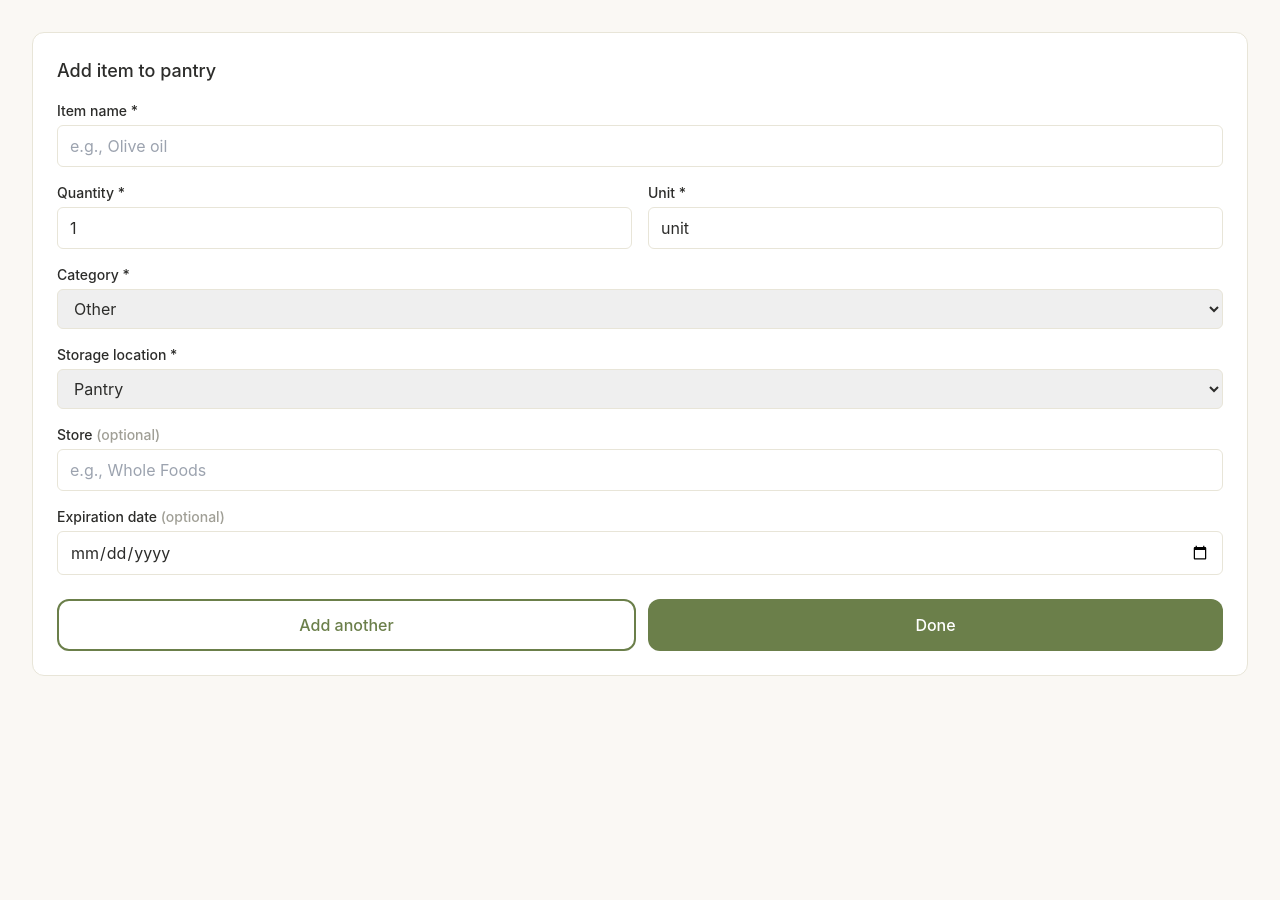
Test: ManualAddTab › Form Validation › shows validation error when quantity is 0
In the field labelled "Item name *": (640, 146) [57,125,1223,167], type "Olive oil"
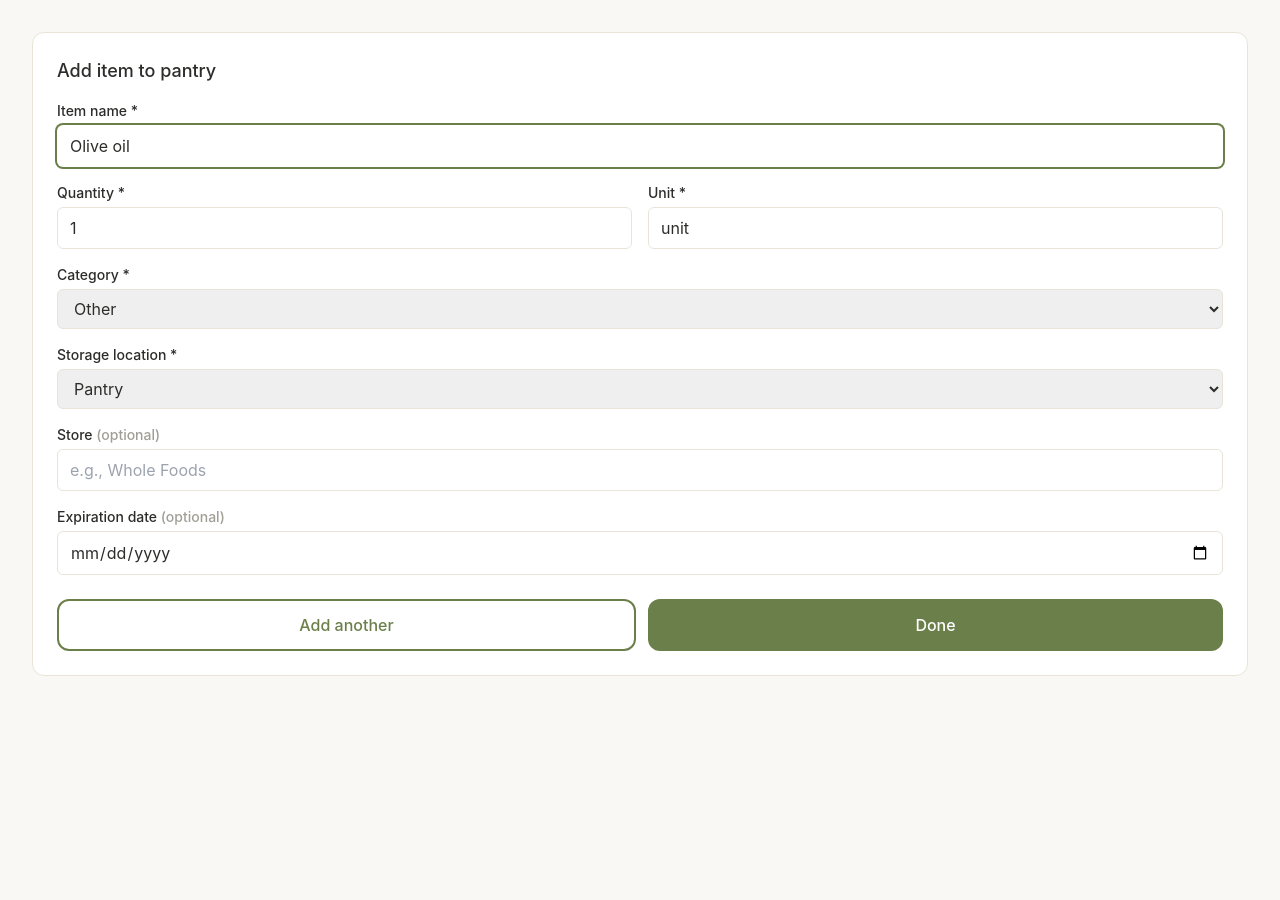
Replace the text in the number field labelled "Quantity *" with "0": (344, 228) [57,207,632,249]
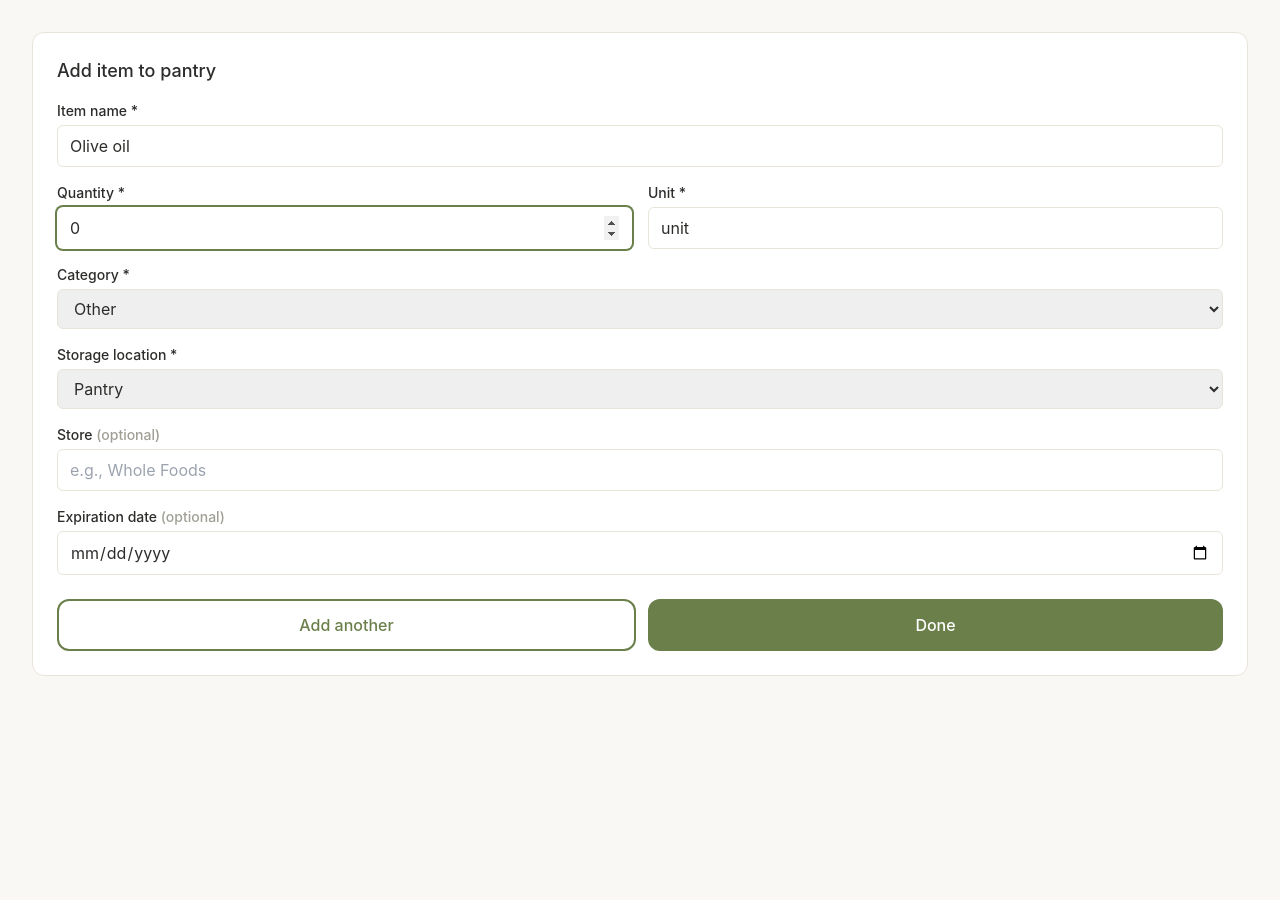
Click the button "Add another": (346, 625) [57,599,636,651]
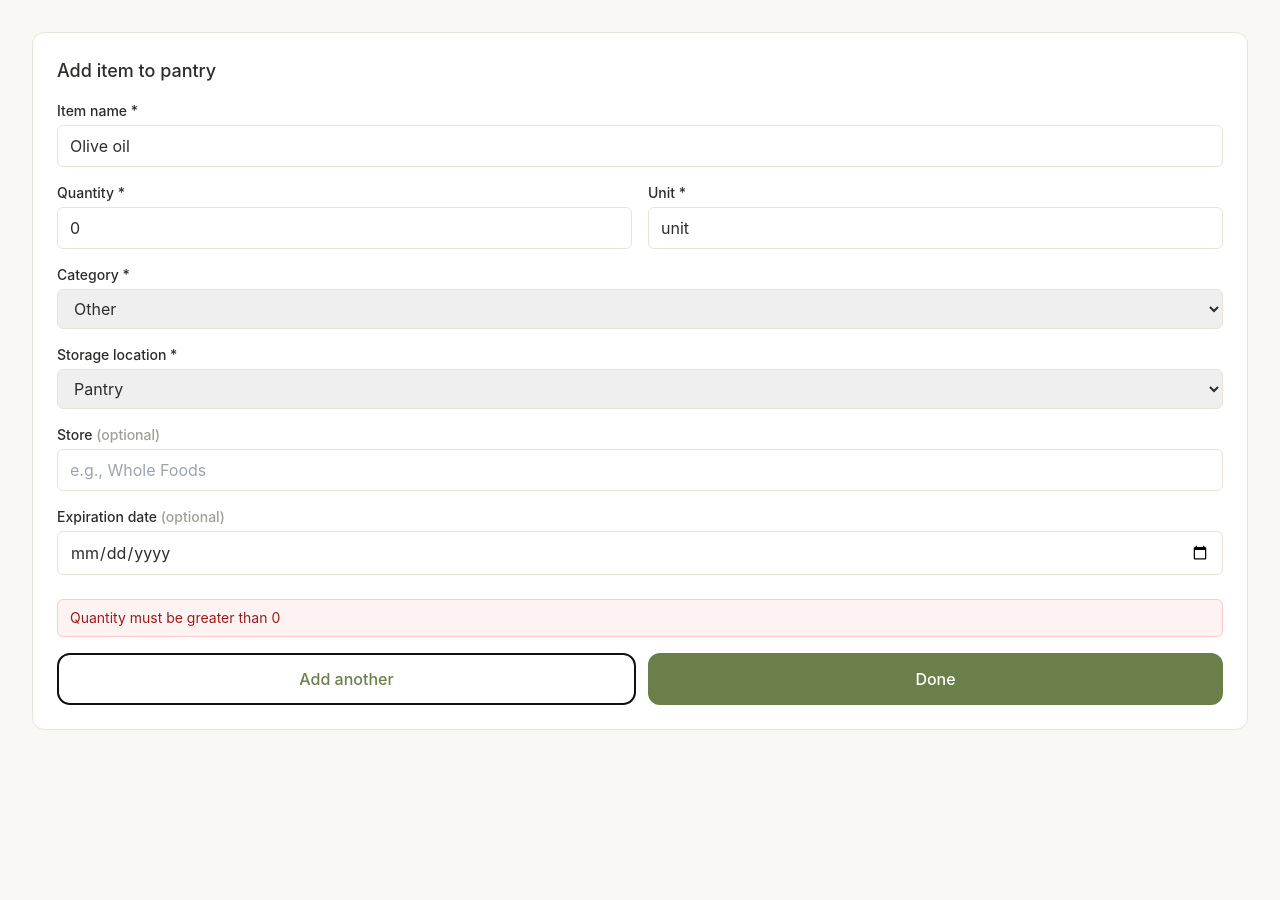
Check: the message reads "Quantity must be greater than 0", box [70,609,280,626]
